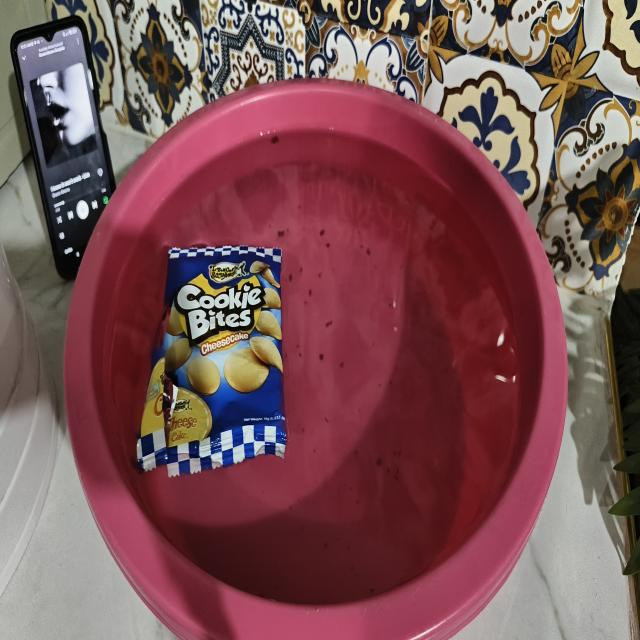Plastic Wrapper: (137, 246, 285, 475)
